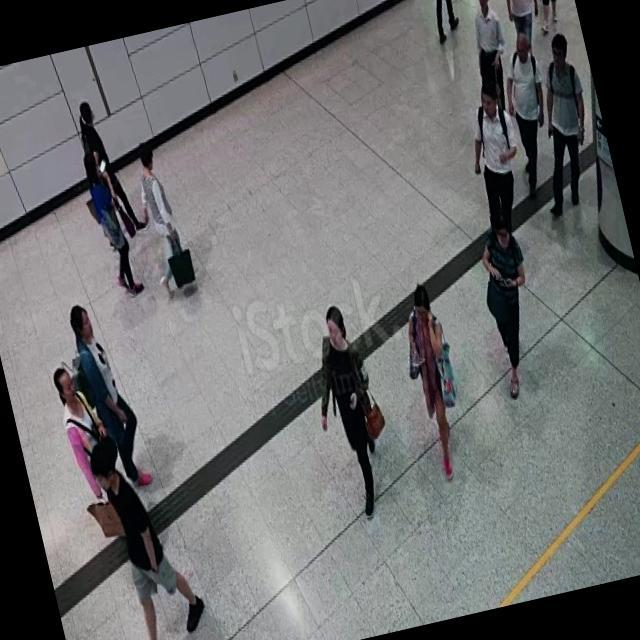person: (75, 399, 220, 640), (302, 278, 407, 517), (34, 352, 148, 566), (38, 289, 152, 492), (384, 255, 482, 467), (466, 205, 556, 398), (522, 18, 612, 209), (60, 137, 154, 316), (115, 143, 205, 314), (454, 78, 539, 244), (62, 86, 143, 258), (494, 35, 564, 195), (453, 0, 527, 107), (418, 0, 469, 54), (492, 0, 545, 37), (528, 0, 574, 21)
